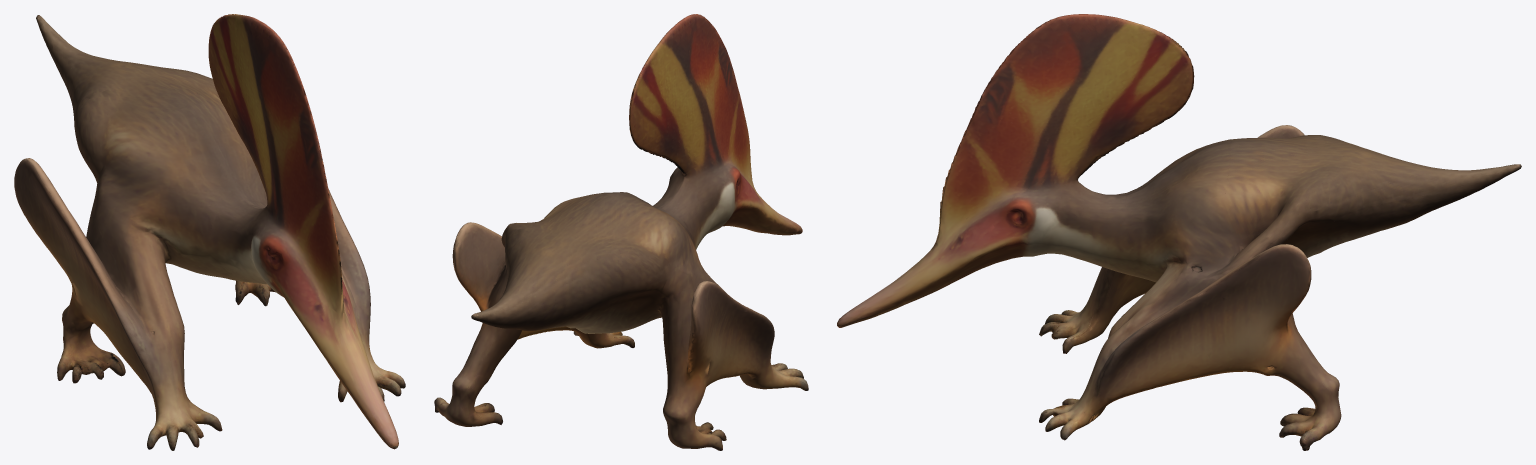
3 renders of one model, left to right at view 1: azimuth 30°, elevation 25°; view 2: azimuth 150°, elevation 25°; view 3: azimuth 270°, elevation 25°, orthographic. The views are drawn at different scales.
Parts seen in each view (by area): view 1: world; view 2: world; view 3: world.
Boxes of the visible parts, bbox=[...] form: world: bbox=[14, 14, 405, 450]; world: bbox=[434, 14, 808, 450]; world: bbox=[837, 14, 1521, 450].
Bounding box in the file's own units: 1.11 × 1.4 × 2.37.
Materials: 1 (1 with a texture image).
